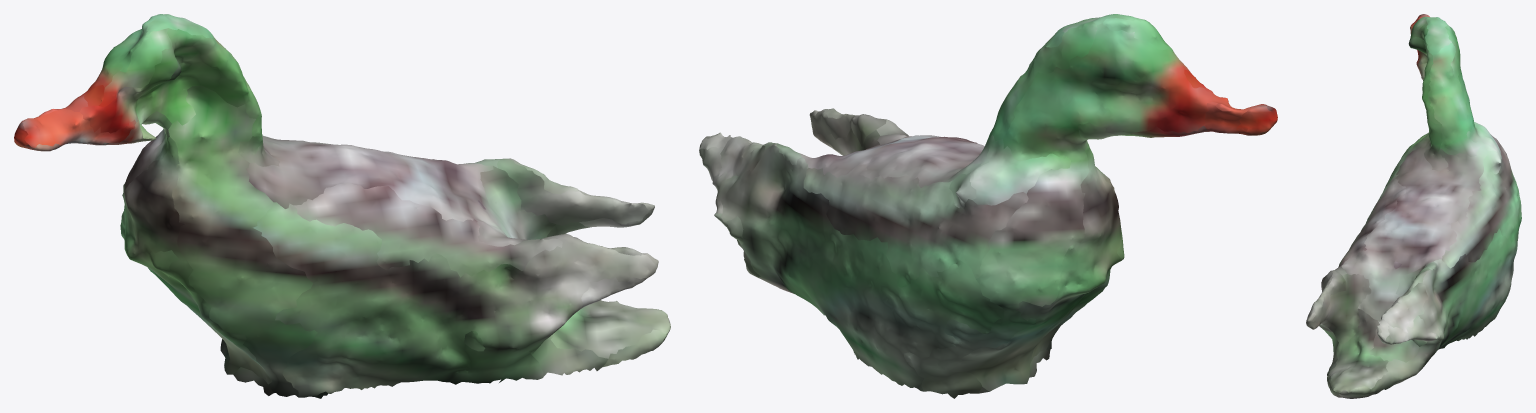
File: duck.glb
The picture shows the model from 3 angles, left to right: view 1: azimuth 30°, elevation 25°; view 2: azimuth 150°, elevation 25°; view 3: azimuth 270°, elevation 25°; orthographic projection. The views are drawn at different scales.
Visible parts, largest first — view 1: mesh; view 2: mesh; view 3: mesh.
Boxes of the visible parts, box(x1,y1,x2,y2) form: mesh: box(14, 14, 670, 398); mesh: box(699, 14, 1277, 398); mesh: box(1306, 14, 1521, 398).
Size of the model in its own units: 0.1235 by 0.0739 by 0.0585.
Materials: 1 (1 with a texture image).
